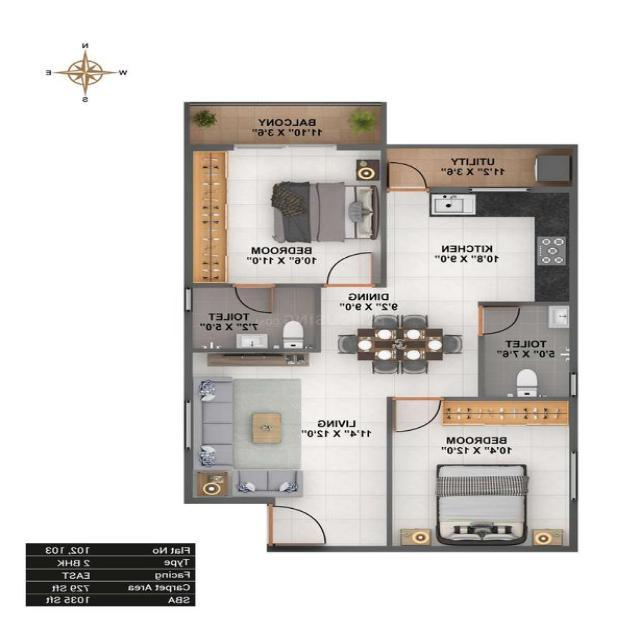Balcony-Sitout: (183, 101, 385, 151)
Bedroom: (385, 399, 574, 549), (183, 146, 383, 286)
Bedroom with Toilet: (385, 300, 581, 550)
Dining: (335, 310, 466, 377)
Enterance-Foyer: (266, 500, 396, 552)
Kitchen: (388, 190, 575, 302)
Living: (192, 356, 383, 497)
Toilet: (476, 301, 579, 397), (183, 284, 322, 355)
Utility: (383, 143, 580, 190)
